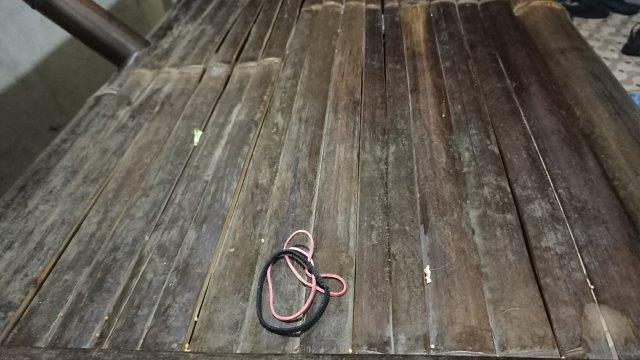karet: (257, 229, 347, 336)
